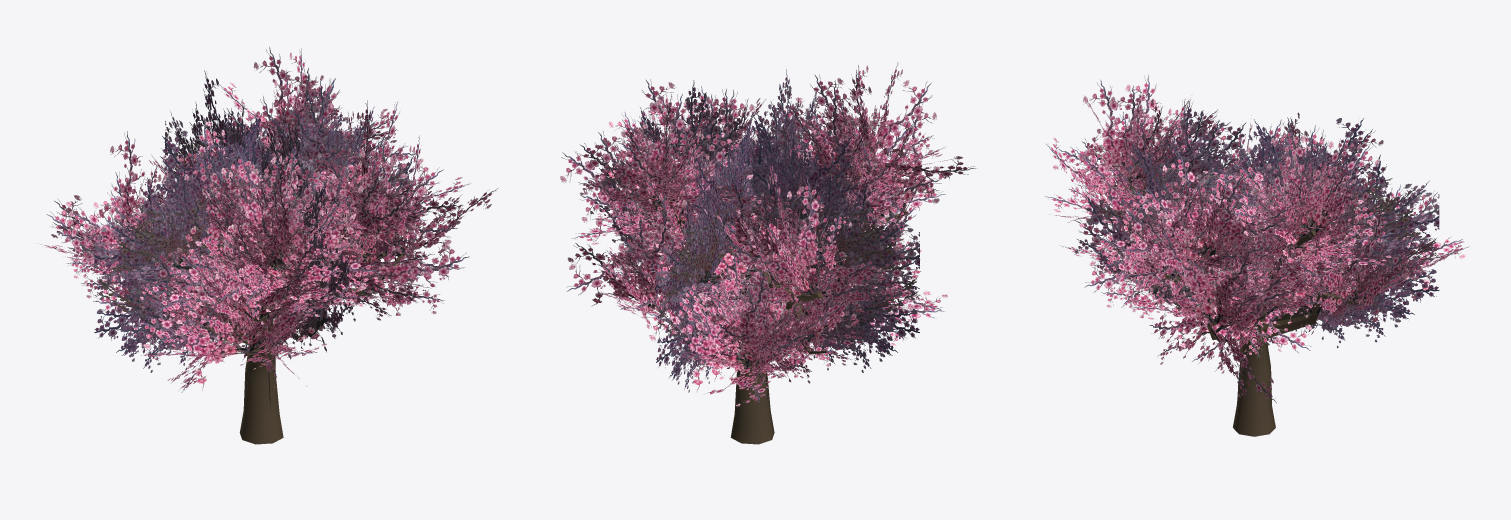
File: treeSakuraLode.fbx
3 views of the same model, side by side, from view 1: azimuth 30°, elevation 25°; view 2: azimuth 150°, elevation 25°; view 3: azimuth 270°, elevation 25° (orthographic). The views are drawn at different scales.
Parts seen in each view (by area): view 1: BranchMax, Plane.003, BranchMid, SakuraUltra; view 2: BranchMax, Plane.003, BranchMid, SakuraUltra; view 3: BranchMax, BranchMid, Plane.003, SakuraUltra.
Boxes of the visible parts, bbox=[...] form: BranchMax: bbox=[40, 47, 497, 387]; Plane.003: bbox=[94, 70, 423, 437]; BranchMid: bbox=[93, 75, 470, 392]; SakuraUltra: bbox=[109, 249, 404, 444]; BranchMax: bbox=[560, 62, 975, 406]; Plane.003: bbox=[590, 69, 919, 437]; BranchMid: bbox=[566, 65, 955, 377]; SakuraUltra: bbox=[648, 170, 907, 444]; BranchMax: bbox=[1045, 74, 1465, 373]; BranchMid: bbox=[1053, 85, 1469, 403]; Plane.003: bbox=[1074, 101, 1439, 425]; SakuraUltra: bbox=[1114, 183, 1358, 436].
Bounding box in the file's own units: 1701 × 1331 × 1679.
